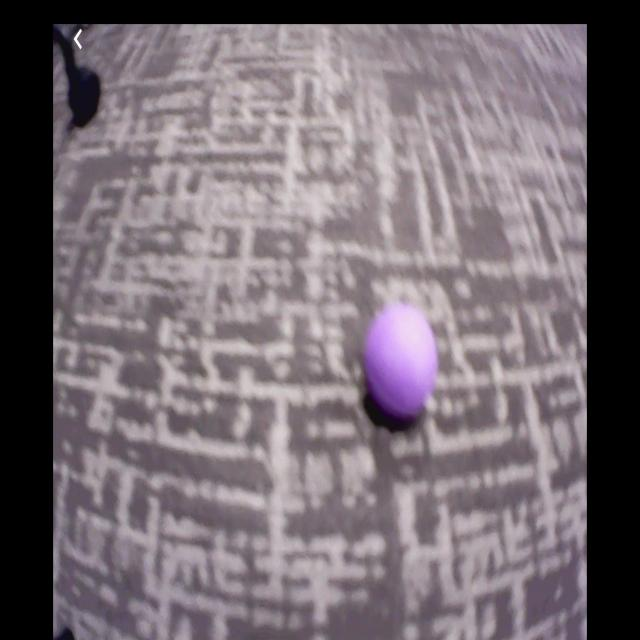ball: (364, 305, 438, 418)
